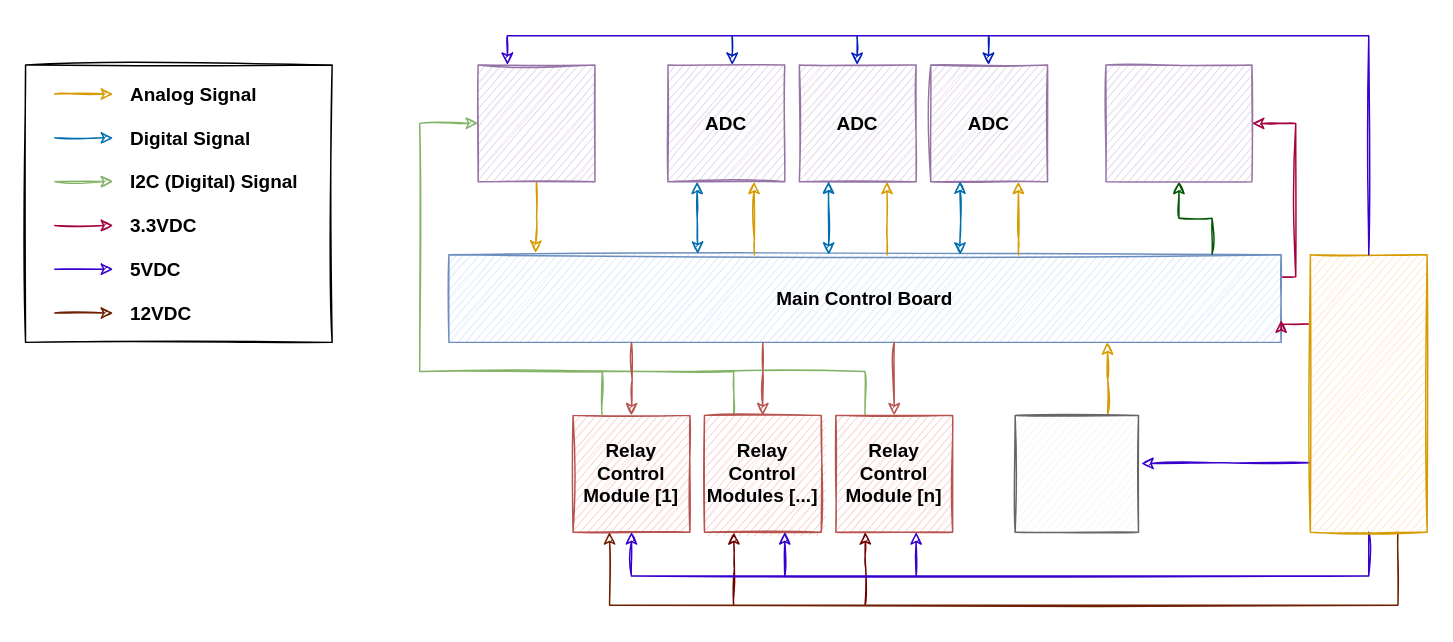
The diagram is 1453 pixels wide and 642 high, and some of its shapes have lost their labels. Each missing label, with the centre of its shape:
"Current Sensors" belongs at (536,123).
"Power Supply Unit" belongs at (1368,392).
"Temperature Probes" belongs at (1076,473).
"WiFi Control" belongs at (1178,123).
